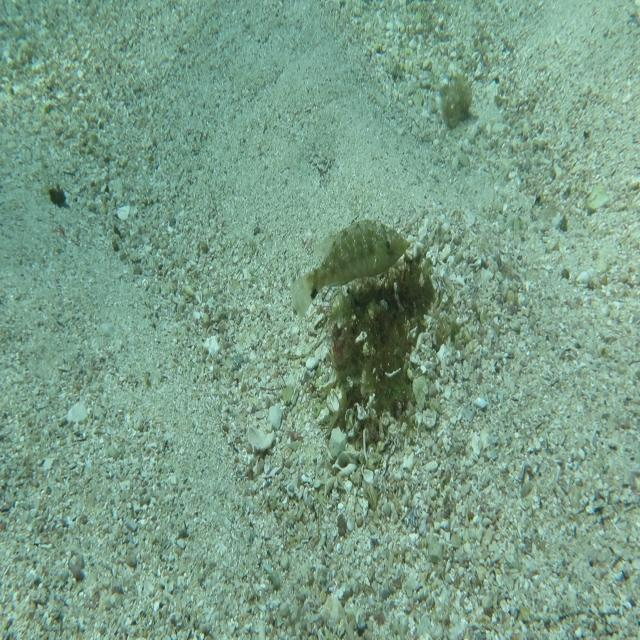FAN: (289, 218, 410, 322)
core_nest: (383, 266, 428, 308)
nest: (315, 227, 445, 435)
vegetation: (440, 68, 472, 131), (47, 178, 69, 210)
